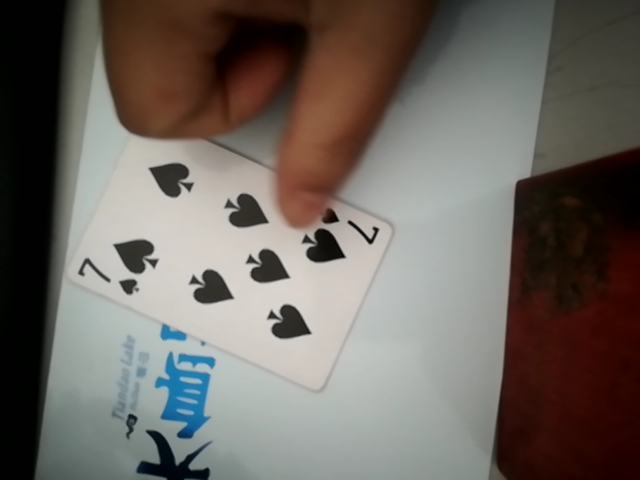ht 7: (63, 118, 404, 382)
